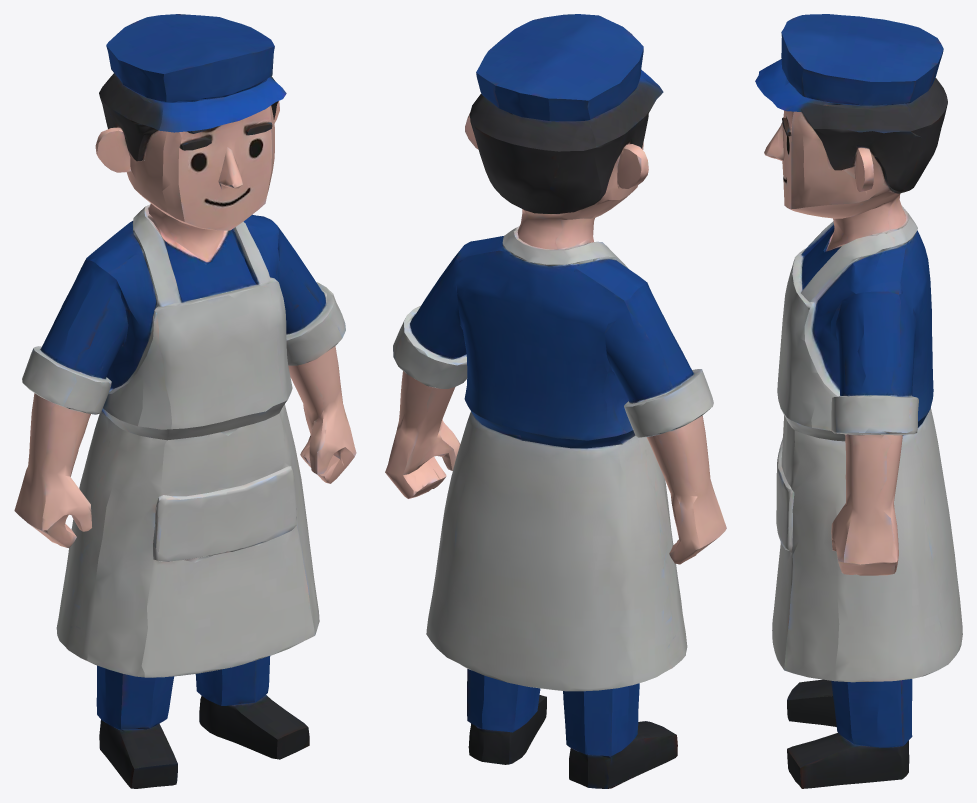
The model's file is barista-rodin-low.glb.
3 views of the same model, side by side, from view 1: azimuth 30°, elevation 25°; view 2: azimuth 150°, elevation 25°; view 3: azimuth 270°, elevation 25° (orthographic).
Visible parts, largest first — view 1: Mesh; view 2: Mesh; view 3: Mesh.
Part boxes in pixels (box(x1,y1,x2,y2)): Mesh: box(14, 14, 356, 788); Mesh: box(385, 14, 726, 788); Mesh: box(755, 14, 962, 788).
Size of the model in its own units: 0.8174 by 1.73 by 0.4571.
1 material, 1 textured.
